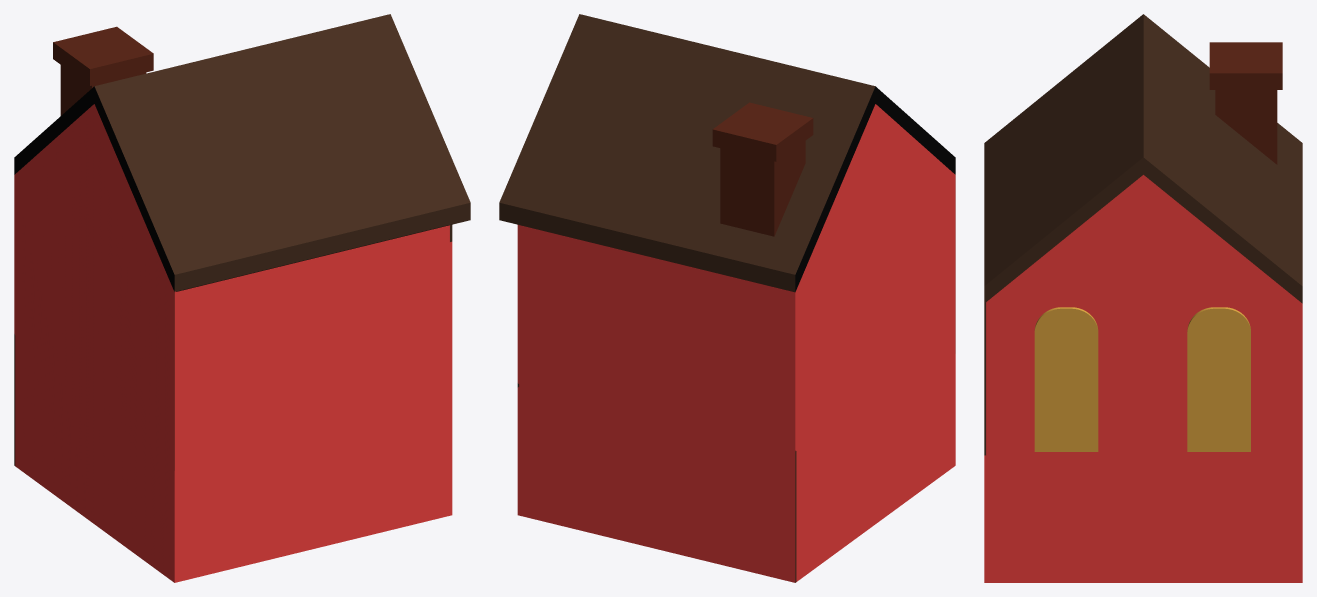
The model's file is houseV2.glb.
The picture shows the model from 3 angles, left to right: view 1: azimuth 30°, elevation 25°; view 2: azimuth 150°, elevation 25°; view 3: azimuth 270°, elevation 25°; orthographic projection.
Parts seen in each view (by area): view 1: Cube, Cube.001; view 2: Cube, Cube.001; view 3: Cube, Cube.002, Cube.003, Cube.001.
Boxes of the visible parts, x1,y1,x2,y2 form: Cube: [14, 14, 470, 582]; Cube.001: [53, 26, 153, 115]; Cube: [499, 14, 955, 582]; Cube.001: [712, 102, 813, 236]; Cube: [984, 14, 1302, 582]; Cube.002: [1034, 307, 1098, 451]; Cube.003: [1187, 307, 1250, 451]; Cube.001: [1209, 42, 1282, 164].
Size of the model in its own units: 2.13 by 3.02 by 2.
Materials: 3 (1 with a texture image).
